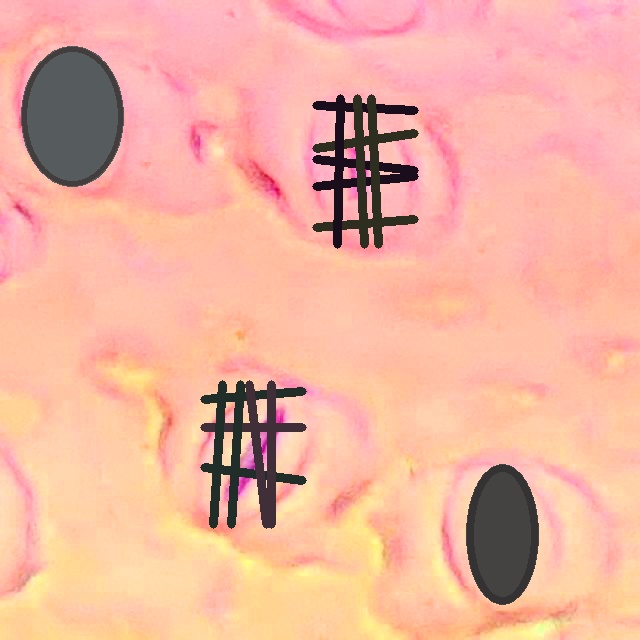close: (312, 95, 417, 247), (21, 46, 123, 187)
open: (200, 380, 306, 528), (467, 464, 538, 603)
